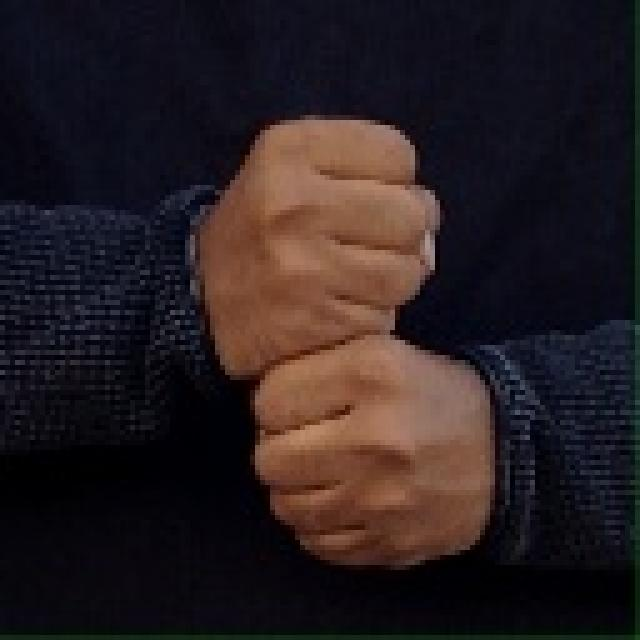G: (212, 119, 485, 561)
